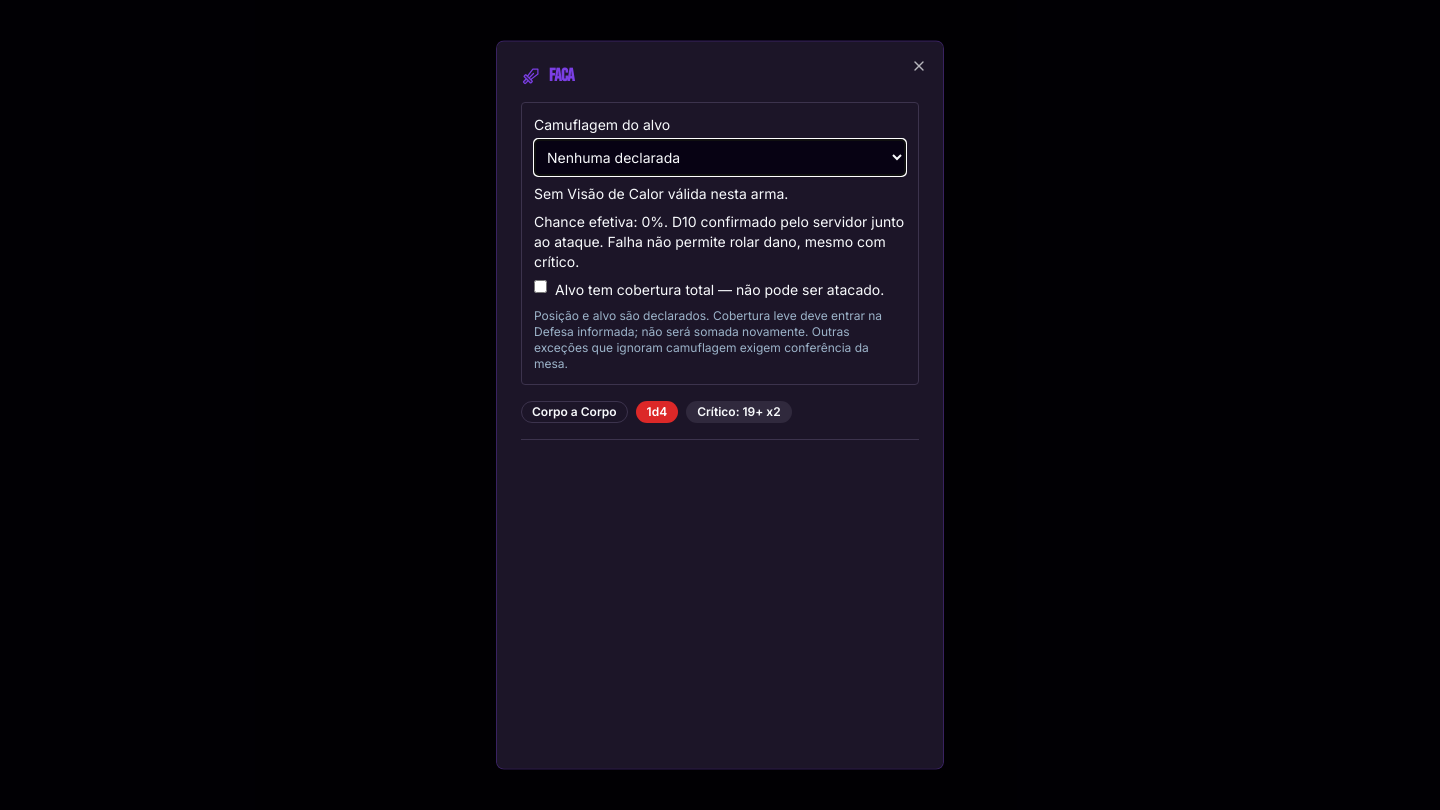
it: Camuflagem: desktop › requer contexto confirmado e cobertura total bloqueia antes da rolagem
Select "Total — 50%" in the dropdown labelled "Camuflagem do alvo". click: (720, 157)
box: [534,138,906,176]
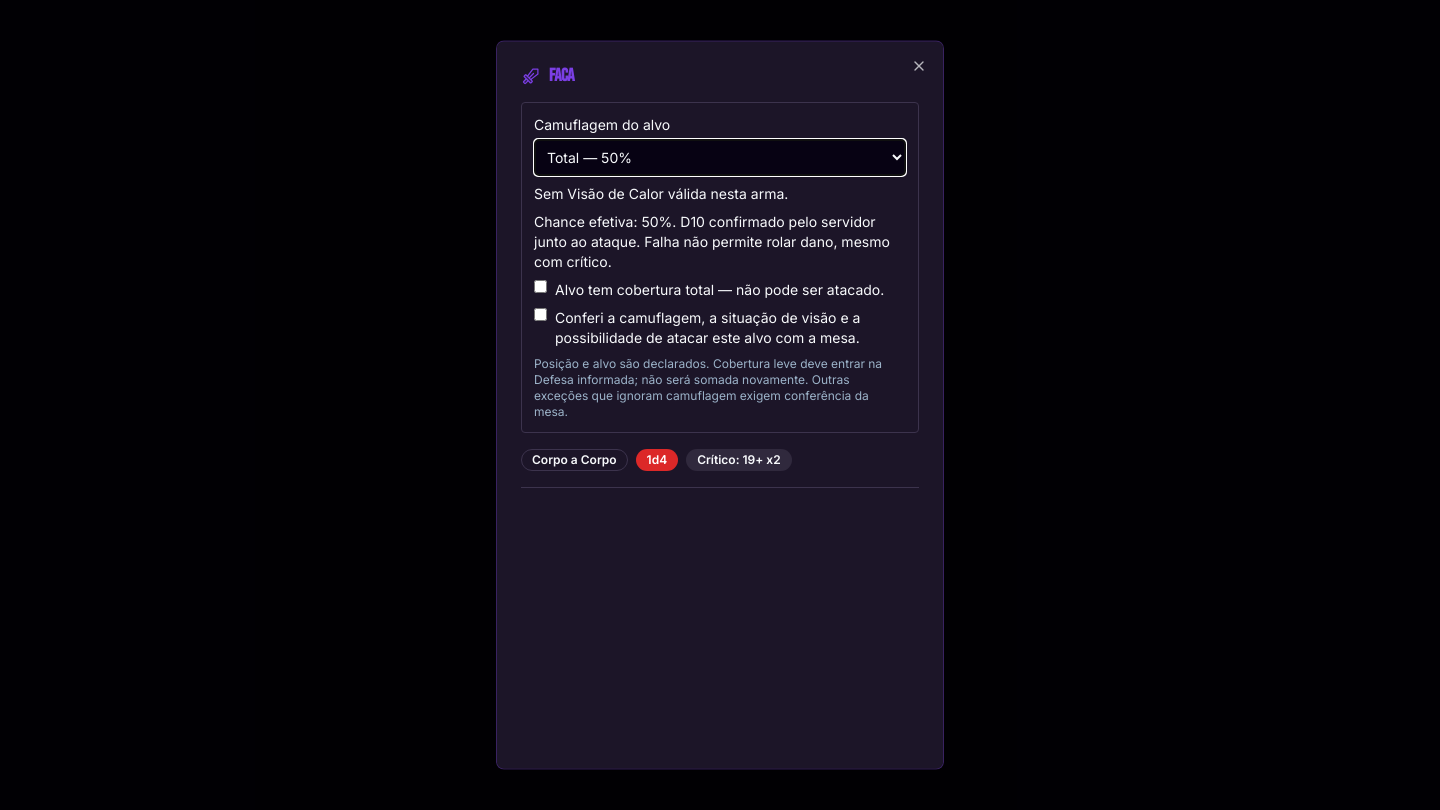
Click the checkbox named "Conferi a camuflagem, a situação de visão e a possibilidade de atacar este alvo com a mesa.". click: (540, 314)
box: [534,308,547,320]
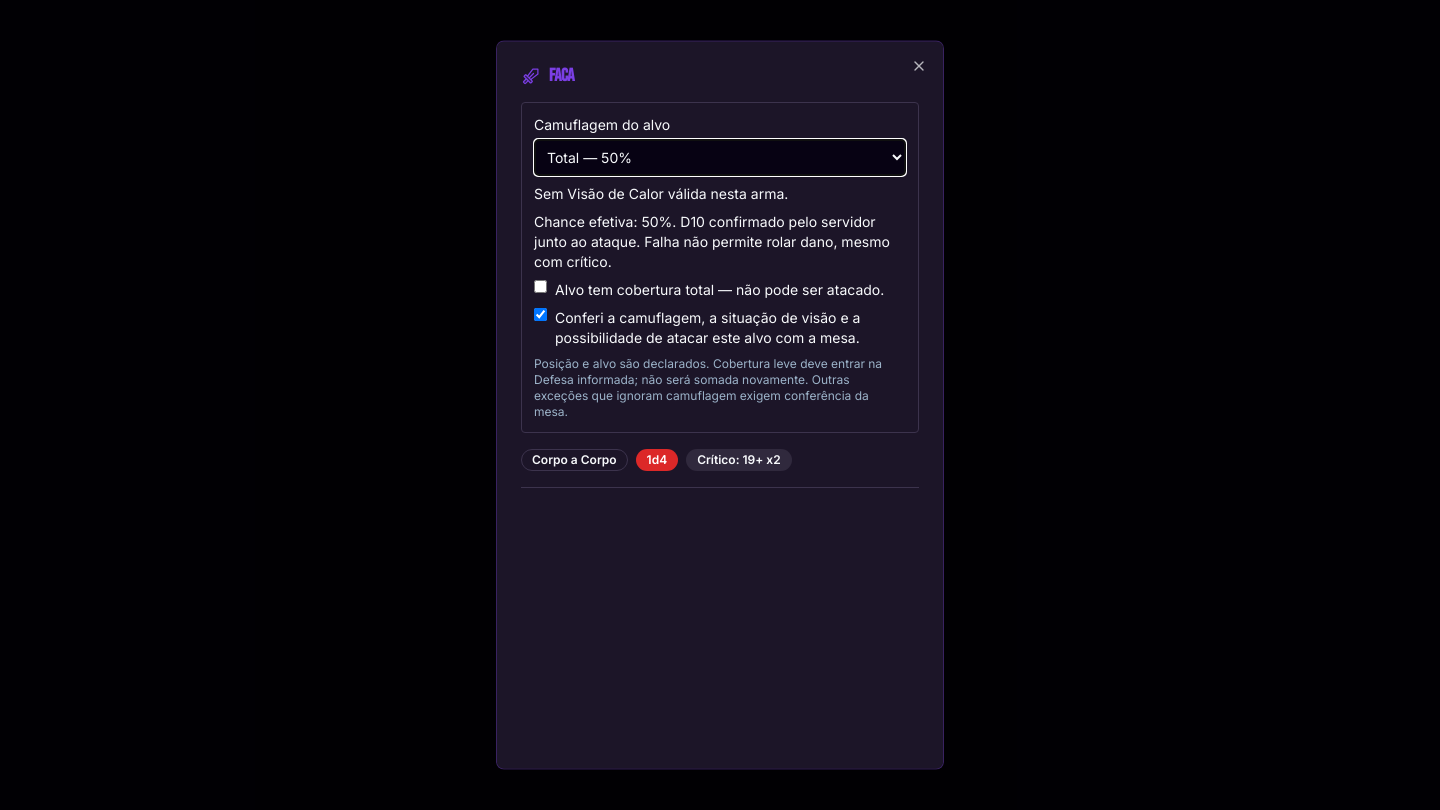
Click the checkbox labelled "Alvo tem cobertura total — não pode ser atacado.". click: (540, 286)
box: [534,280,547,292]
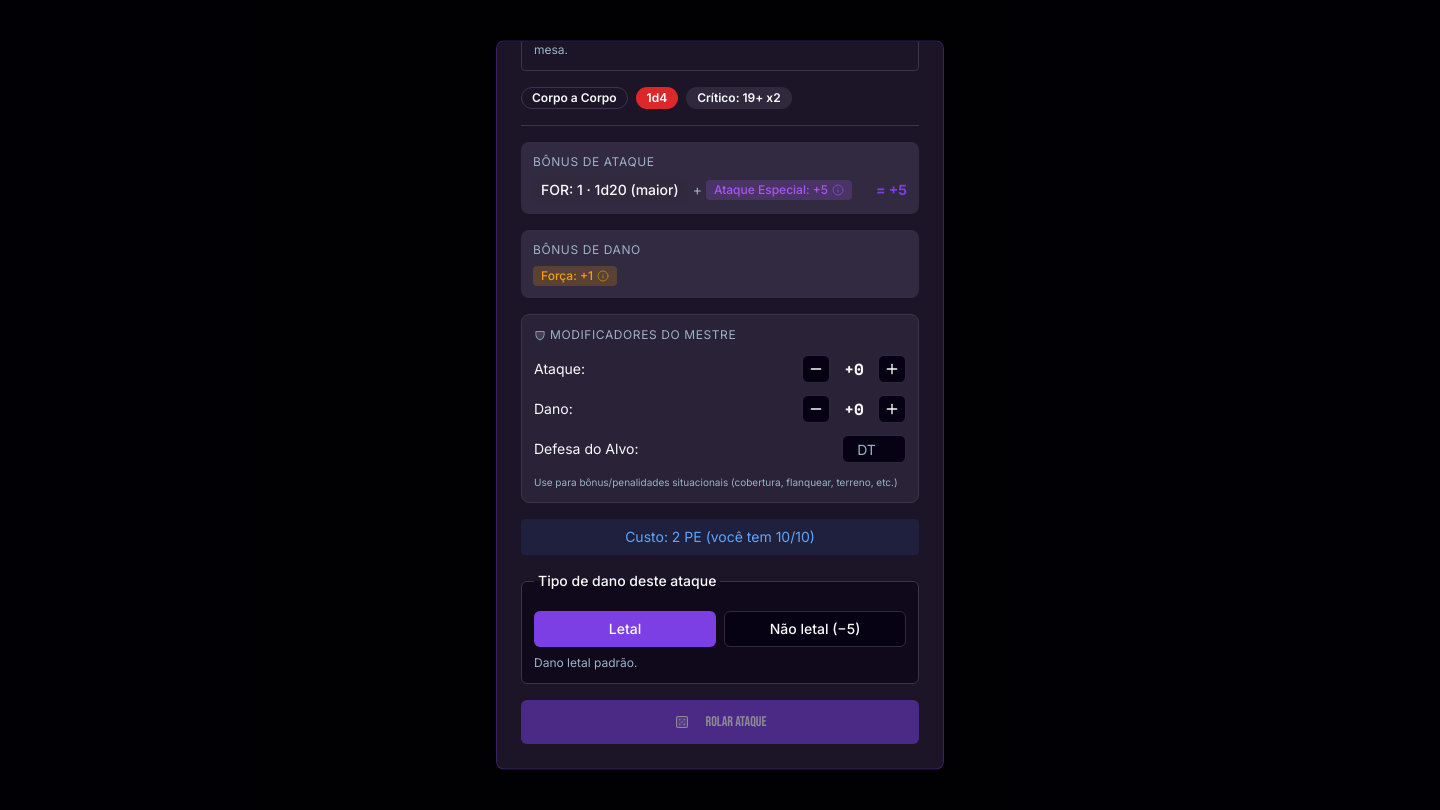
Now the button "ROLAR ATAQUE" is disabled, box [521,700,919,744]
